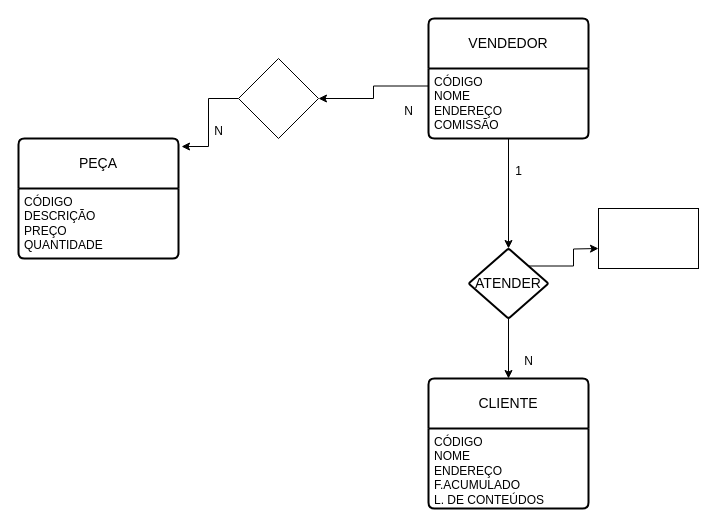
Some shapes in this 716 by 526 pixel diagram are drawn without their labels. Each missing label, with the centre of its shape:
DATA: the point at 648,238
TER: the point at 278,98
